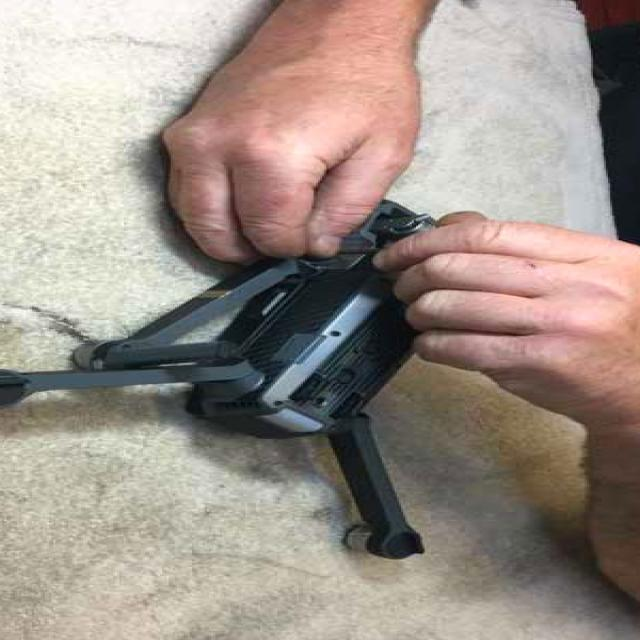drone: (0, 121, 580, 562)
